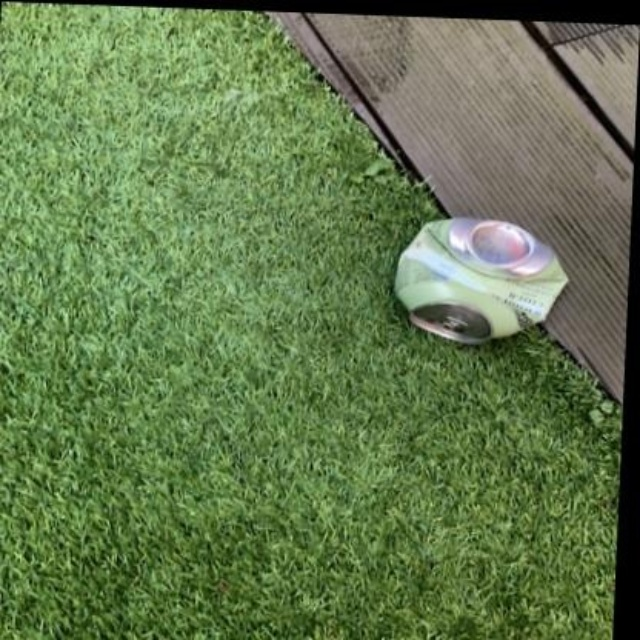trash: (395, 218, 566, 343)
